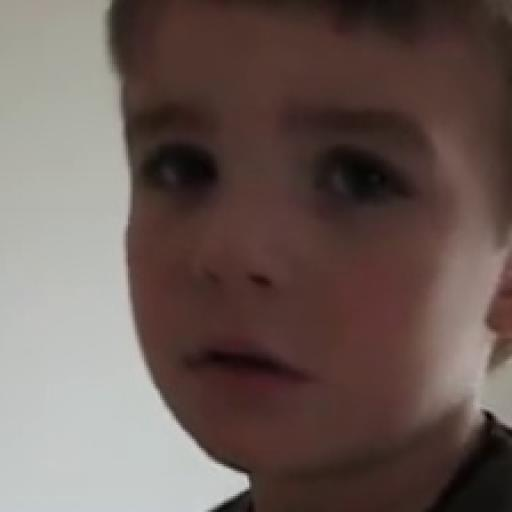Autism: (105, 22, 512, 496)
